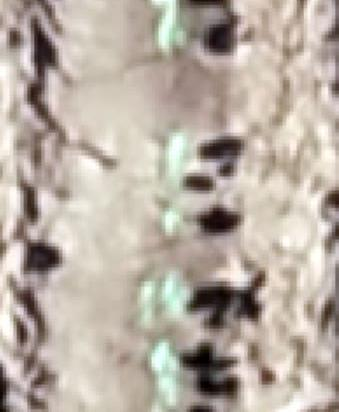cotton: (151, 340, 180, 373), (166, 276, 190, 311), (160, 6, 182, 43), (159, 367, 178, 406), (169, 137, 189, 163), (143, 286, 159, 317), (164, 214, 180, 229)
